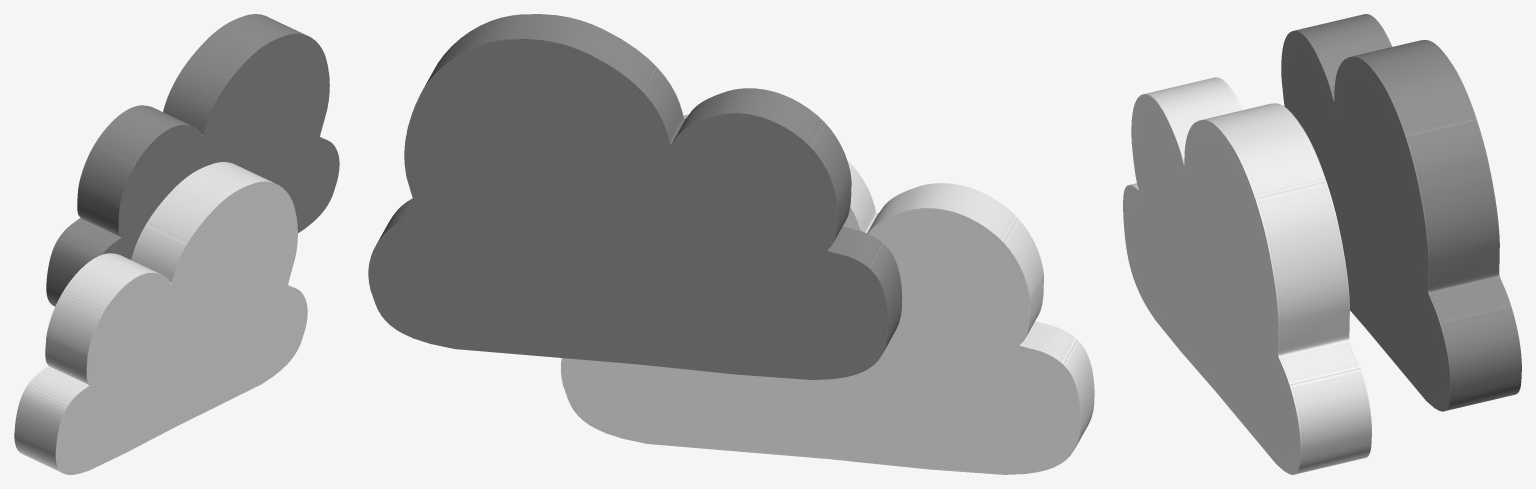
The model's file is 3d_nublado.glb.
3 renders of one model, left to right at view 1: azimuth 30°, elevation 25°; view 2: azimuth 150°, elevation 25°; view 3: azimuth 270°, elevation 25°, orthographic. The views are drawn at different scales.
Parts seen in each view (by area): view 1: node_id8; view 2: node_id8; view 3: node_id8.
Part boxes in pixels (x1,y1,x2,y2): node_id8: [14, 14, 339, 474]; node_id8: [368, 14, 1094, 474]; node_id8: [1123, 14, 1521, 474].
Bounding box in the file's own units: 0.4789 × 0.3455 × 0.2863.
1 material, 1 textured.
